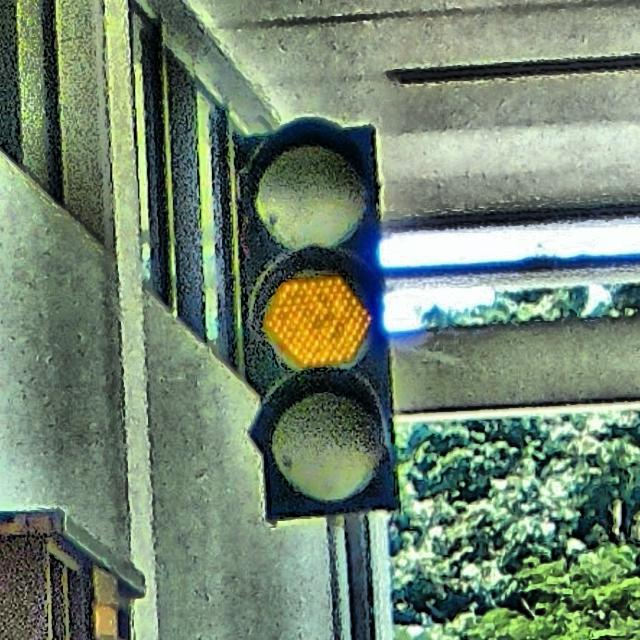yellow: (238, 128, 400, 512)
